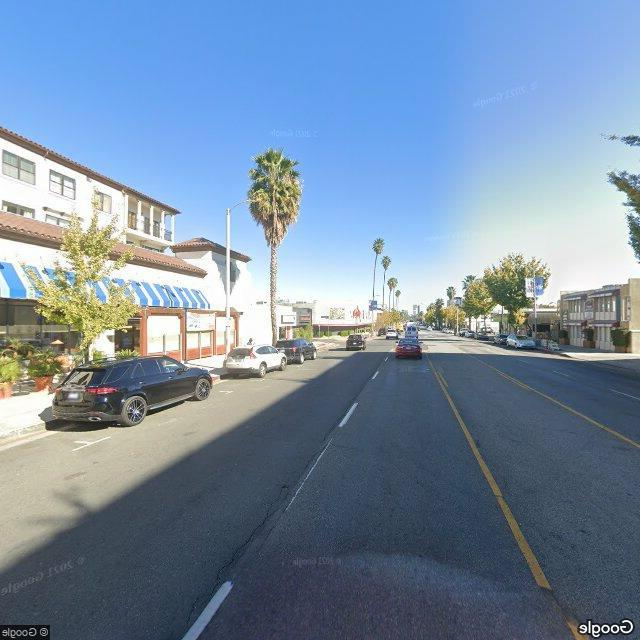pothole: (172, 485, 290, 637)
